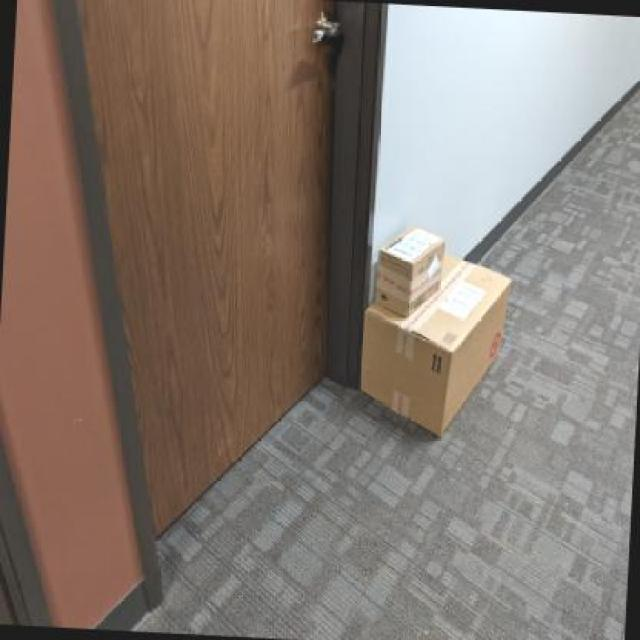box: (361, 252, 509, 440), (377, 226, 447, 317)
